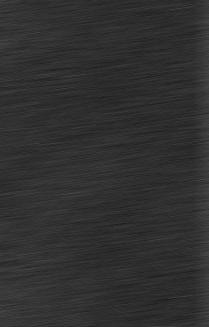Airbag: (0, 0, 209, 327), (203, 0, 209, 327)
